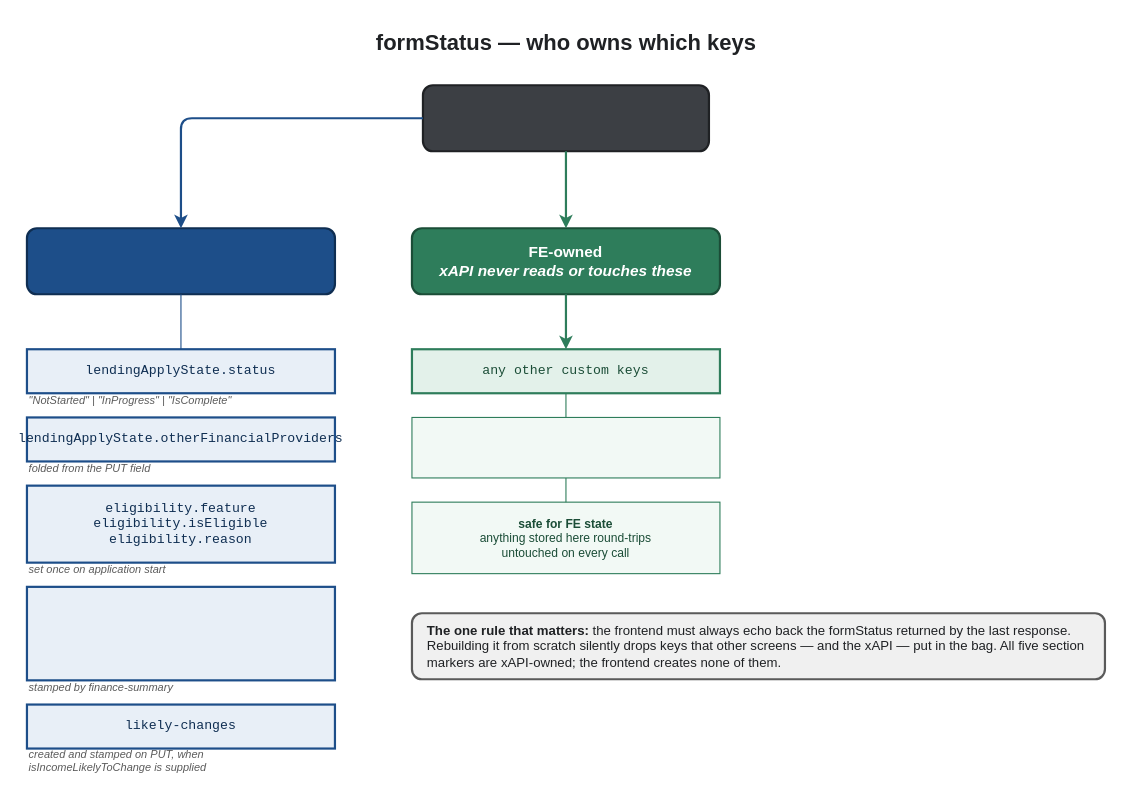
Image size: 1125x793. Some labels were removed from this diagram. Each missing label, with the centre of its shape:
"formStatus JSON string — always echo back" goes at pixel 565 118.
"preserved unchanged the xAPI never reads them" goes at pixel 565 447.
"xAPI writes these FE must not set them" goes at pixel 180 261.
"your-income fixed-commitments essential-living-costs recurring-expenses" goes at pixel 180 633.
